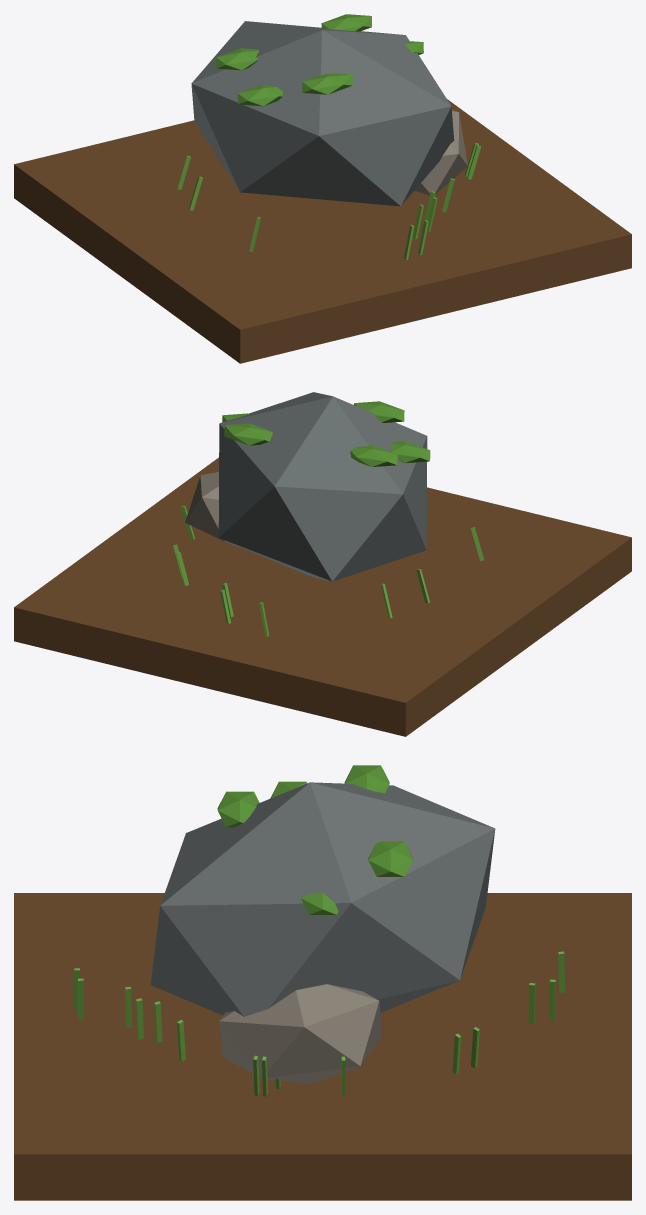
File: large_boulder.glb
The picture shows the model from 3 angles, top to bottom: view 1: azimuth 30°, elevation 25°; view 2: azimuth 150°, elevation 25°; view 3: azimuth 270°, elevation 25°; orthographic projection. The views are drawn at different scales.
Visible parts, largest first — view 1: TerrainBase, LargeBoulder, BoulderSide, BoulderMoss.005, BoulderMoss.004, BoulderMoss.003, BoulderMoss.001; view 2: TerrainBase, LargeBoulder, BoulderSide, BoulderMoss.001, BoulderMoss.003, BoulderMoss.005, BoulderMoss.004; view 3: TerrainBase, LargeBoulder, BoulderSide, BoulderMoss.001, BoulderMoss.005, BoulderMoss.003, BoulderMoss.
Part boxes in pixels (x1,y1,x2,y2): TerrainBase: (14,99,631,363); LargeBoulder: (191,21,454,206); BoulderSide: (414,110,467,195); BoulderMoss.005: (302,73,352,94); BoulderMoss.004: (237,85,282,106); BoulderMoss.003: (216,48,258,70); BoulderMoss.001: (321,14,371,31); TerrainBase: (14,457,631,736); LargeBoulder: (218,392,427,581); BoulderSide: (185,472,240,547); BoulderMoss.001: (224,423,272,445); BoulderMoss.003: (350,445,397,466); BoulderMoss.005: (354,401,404,422); BoulderMoss.004: (391,441,430,463); TerrainBase: (14,893,631,1200); LargeBoulder: (150,782,495,1016); BoulderSide: (219,984,382,1083); BoulderMoss.001: (368,841,412,876); BoulderMoss.005: (217,791,259,827); BoulderMoss.003: (344,765,389,793); BoulderMoss: (300,892,338,914).
Bounding box in the file's own units: 7 × 3.55 × 7.
